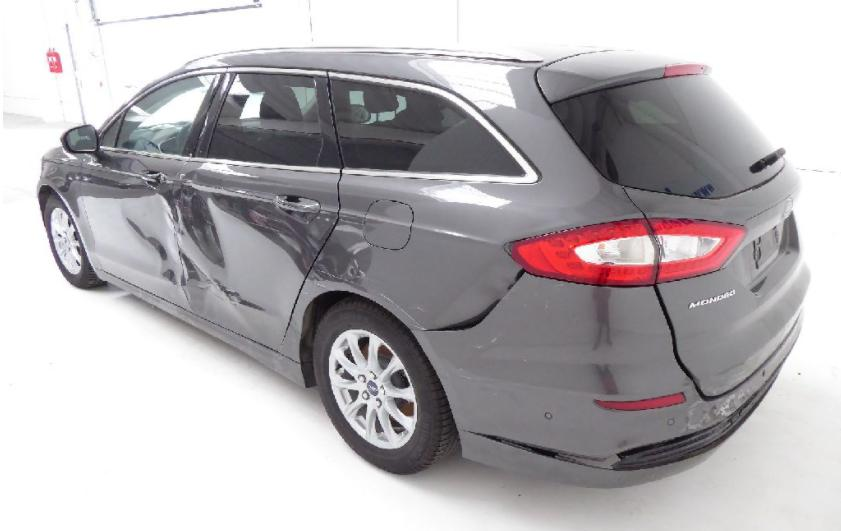Back-bumper: (415, 272, 803, 489)
Back-door: (172, 66, 343, 353)
Back-wheel: (313, 295, 459, 474)
Back-window: (330, 80, 527, 176), (209, 74, 322, 166)
Back-windshield: (550, 75, 785, 199)
Fender: (37, 145, 102, 270)
Front-door: (80, 67, 227, 313)
Front-wheel: (44, 192, 107, 289)
Front-window: (118, 74, 216, 155), (100, 118, 121, 147)
Mirror: (60, 124, 100, 155)
Quarter-panel: (279, 174, 646, 363)
Rocker-panel: (93, 268, 306, 388)
Roof: (178, 46, 618, 90)
Tail-light: (511, 218, 659, 287), (647, 218, 748, 284)
Trunk: (536, 51, 811, 396)
